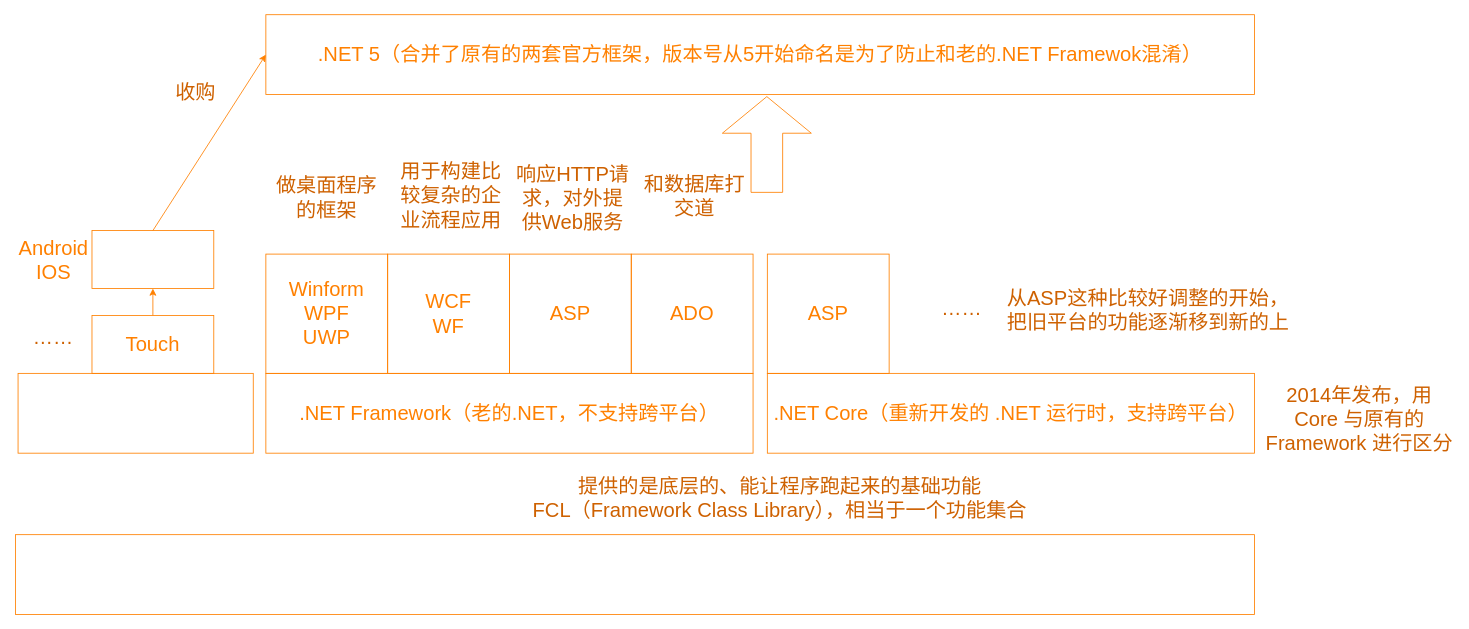
The diagram is 1469 pixels wide and 629 high, and some of its shapes have lost their labels. Here are the shapes that lost their labels. From the top down, the centre of each, then its label:
point (152, 259): Xamarin
point (135, 413): mono （开源社区开发的，支持跨平台）
point (635, 574): .NET Standard（在 .NET 5 推出之前，为了防止 .NET Framework 和 .NET Core 不统一推出的标准）
